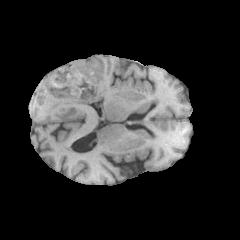glioma: (37, 60, 105, 122)
